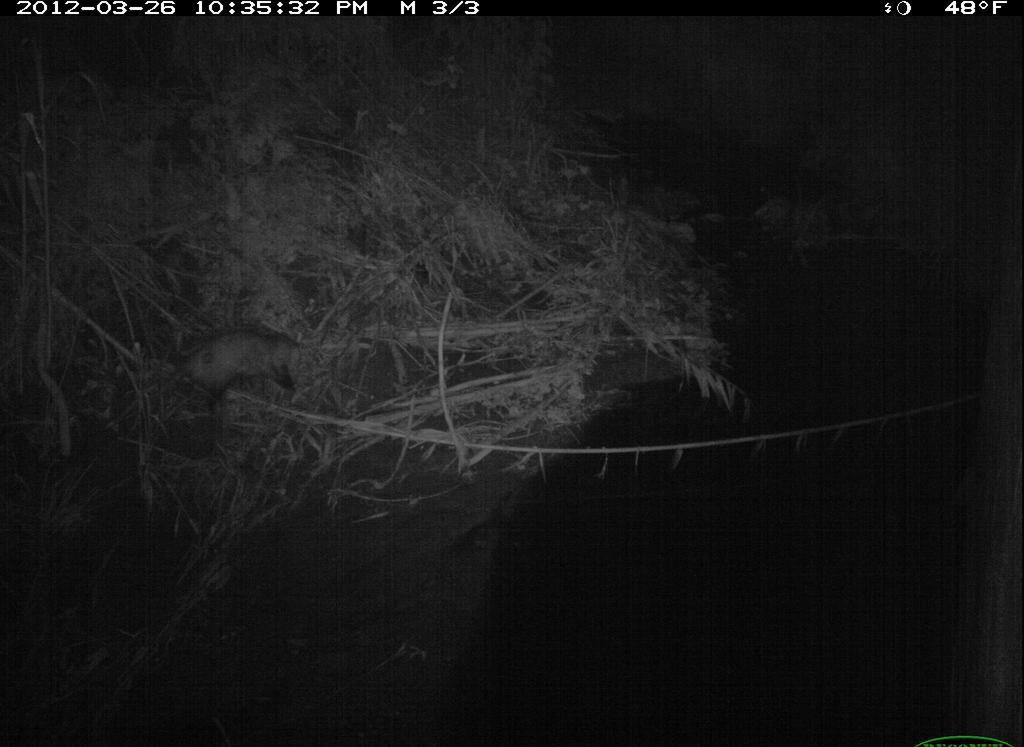opossum: (162, 319, 317, 422)
